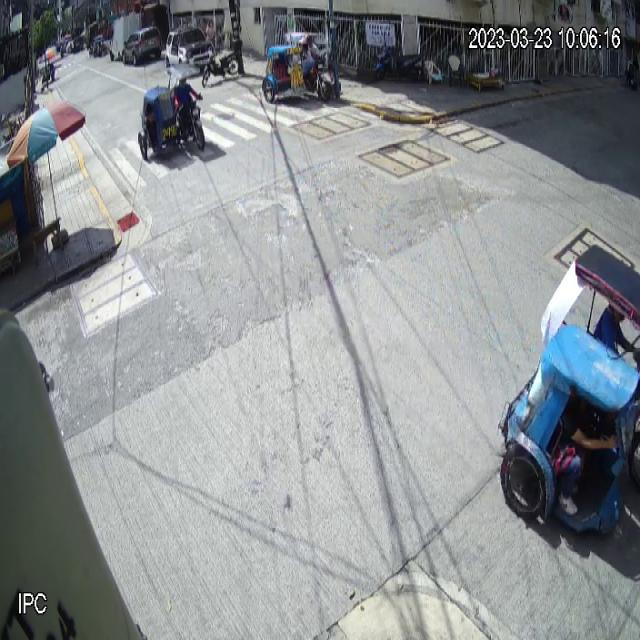Tricycle: (498, 242, 640, 540), (137, 63, 206, 161), (261, 31, 332, 104)
